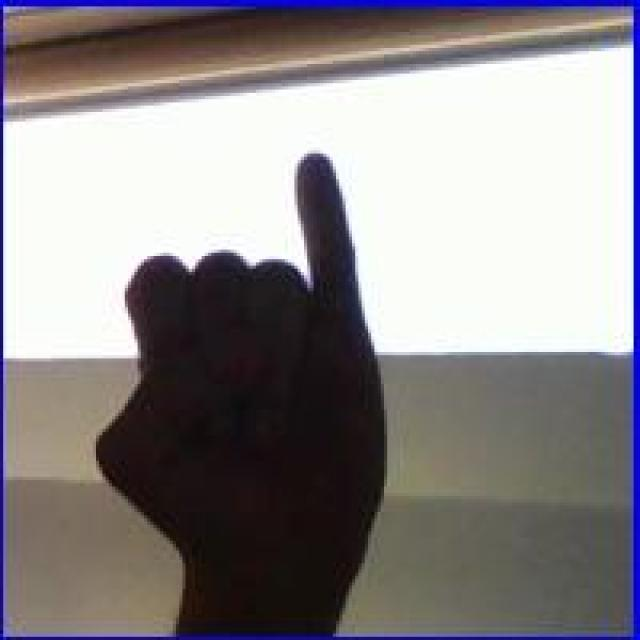I: (93, 141, 403, 595)
